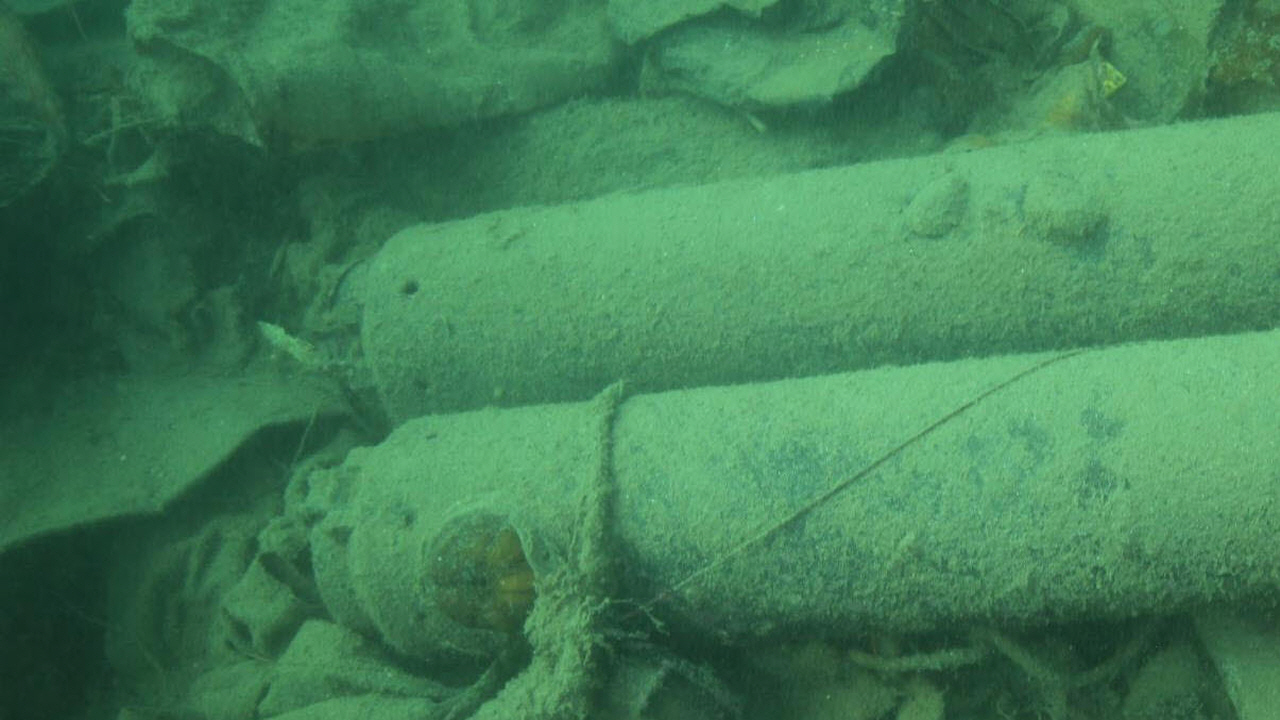bundle of ropes: (499, 371, 756, 720)
eel fish trap: (307, 328, 1280, 656), (318, 103, 1280, 419)
